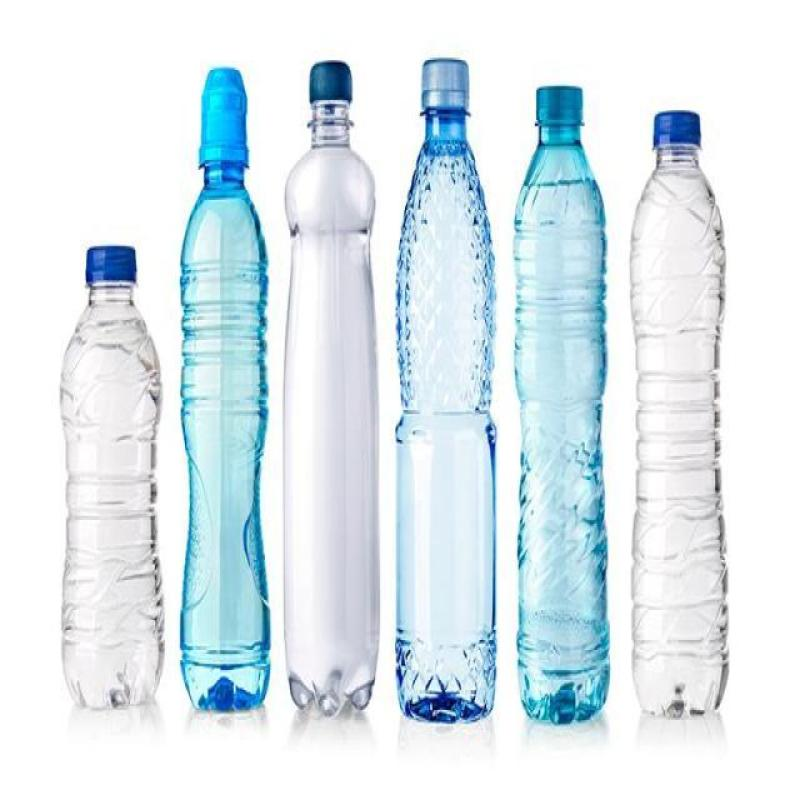botella: (628, 110, 741, 722), (277, 58, 379, 720), (397, 51, 497, 720), (512, 86, 616, 714), (180, 62, 272, 712), (58, 242, 167, 714)
